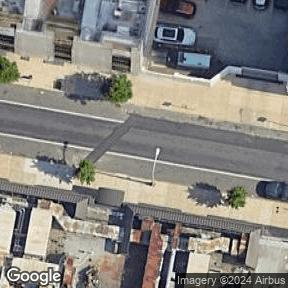vegetation: (102, 73, 137, 106), (224, 184, 251, 210), (73, 159, 100, 185), (0, 56, 18, 83)
